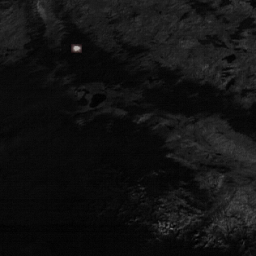Target: (72, 44, 81, 52)
